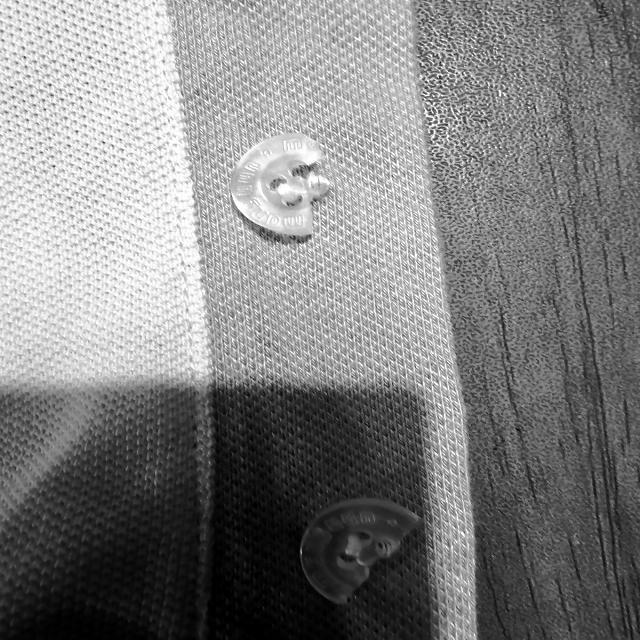Broken_button: (291, 478, 419, 610), (219, 120, 342, 248)
